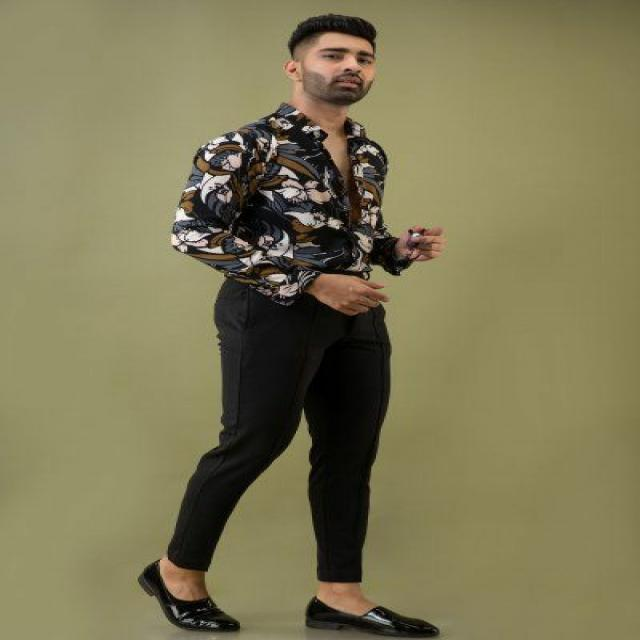male-dress: (182, 113, 398, 591)
